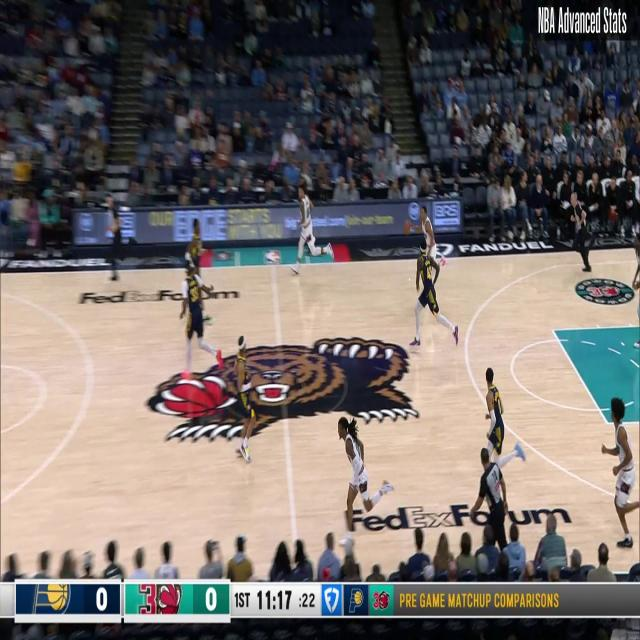ball: (404, 218, 412, 236)
judge: (469, 444, 517, 552), (570, 192, 591, 270), (104, 196, 122, 282)
player: (338, 414, 396, 530), (602, 396, 640, 546), (409, 238, 459, 351), (477, 374, 525, 479), (180, 264, 222, 376), (289, 175, 333, 277), (229, 337, 260, 465), (409, 203, 450, 281), (184, 216, 205, 309)
